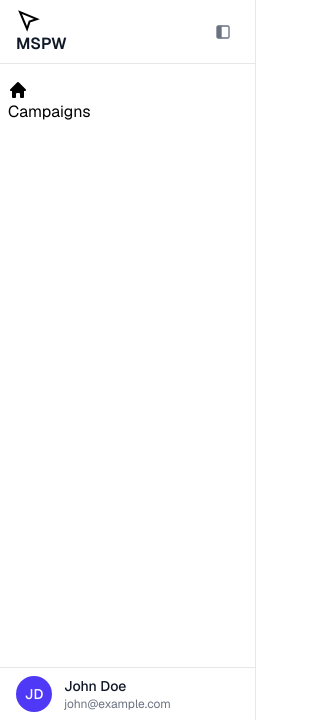
Sidenav component › hides text labels when collapsed
This screenshot has width=320, height=720.
Expected: the text "MSPW" is shown, [16, 32, 67, 54]
Expected: the link "Campaigns" is shown, [8, 80, 91, 122]
Click the button with test id "sidenav-toggle" at point(223, 32), box [207, 16, 239, 48]
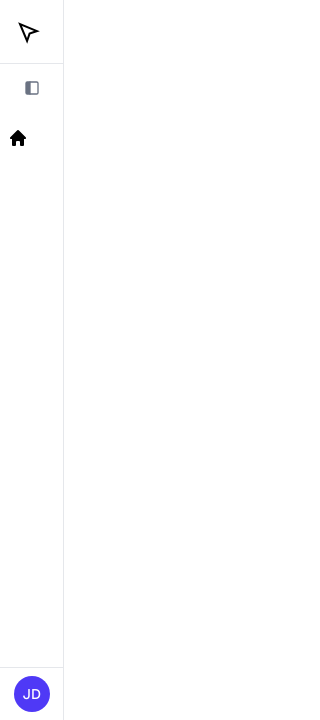
Now the text "MSPW" is gone
Now the link "Campaigns" is gone
